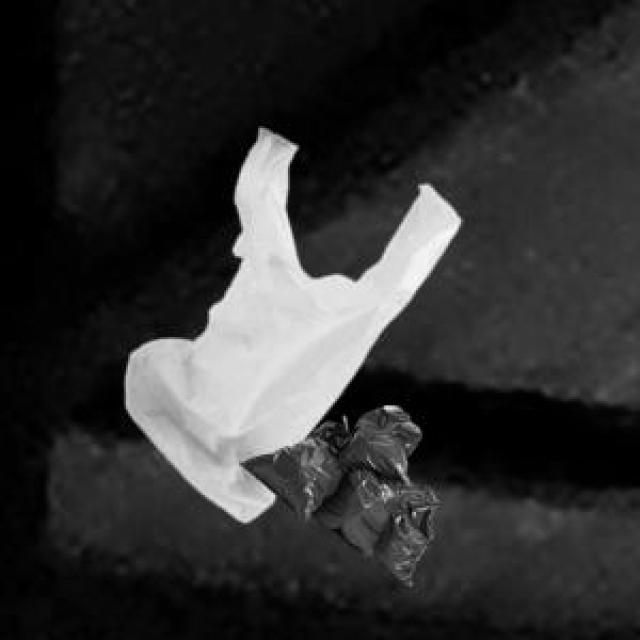miscellaneous trash: (237, 401, 433, 582)
